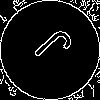J: (25, 25, 76, 75)
